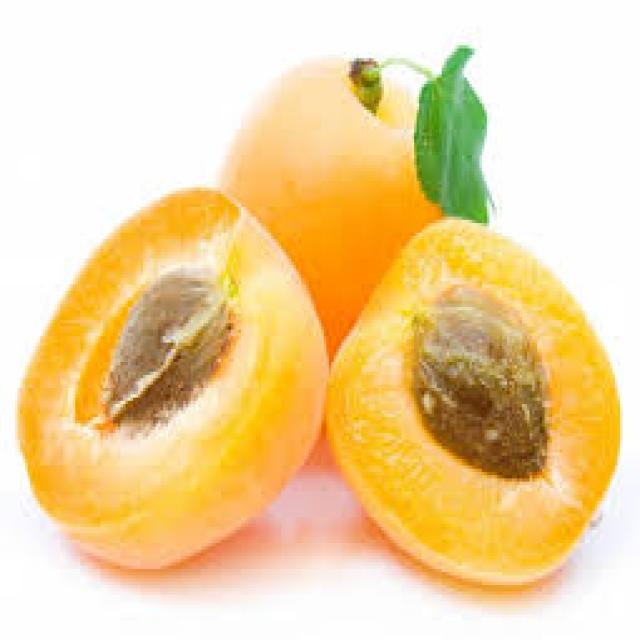kayisi: (20, 21, 630, 566)
kayisi_cekirdegi: (409, 282, 559, 486), (117, 266, 241, 412)
kayisi_yapragi: (394, 42, 520, 220)
